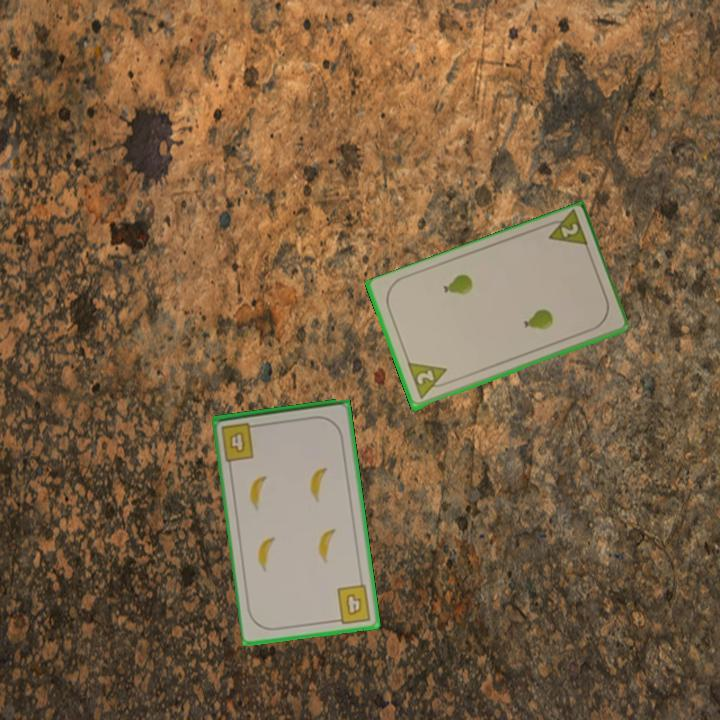2p: (539, 208, 591, 251), (404, 360, 454, 402)
4b: (217, 419, 262, 464), (330, 581, 374, 626)
